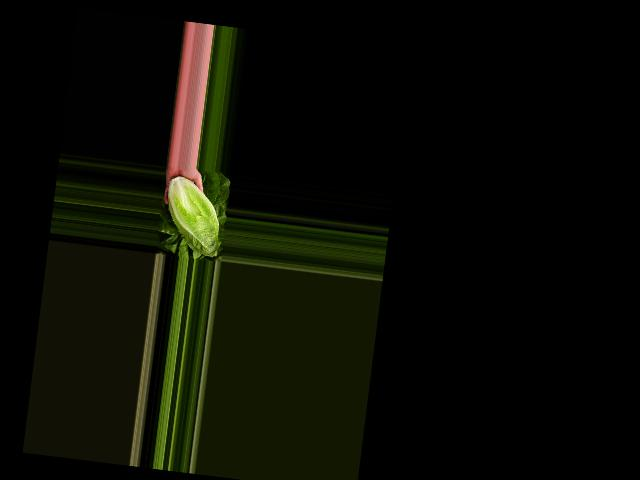lettuce: (158, 173, 227, 258)
